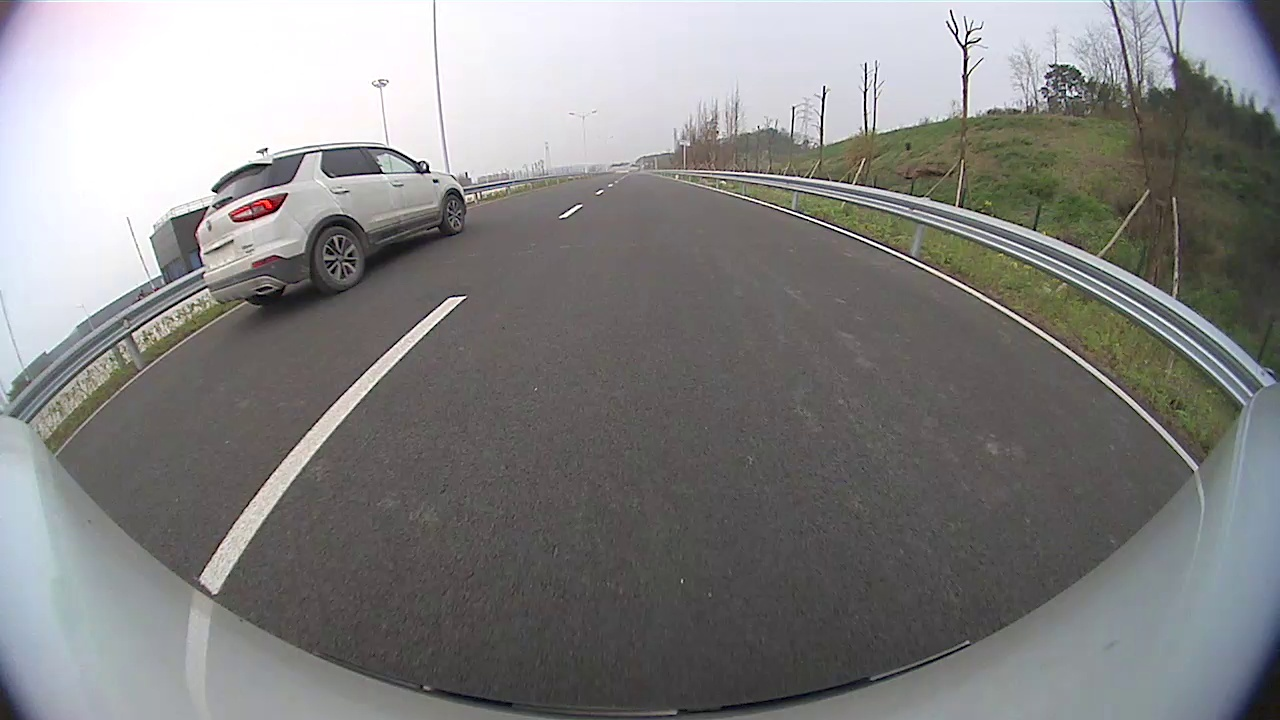car: (194, 142, 467, 307)
front: (440, 192, 468, 237)
rear: (310, 225, 366, 294)
